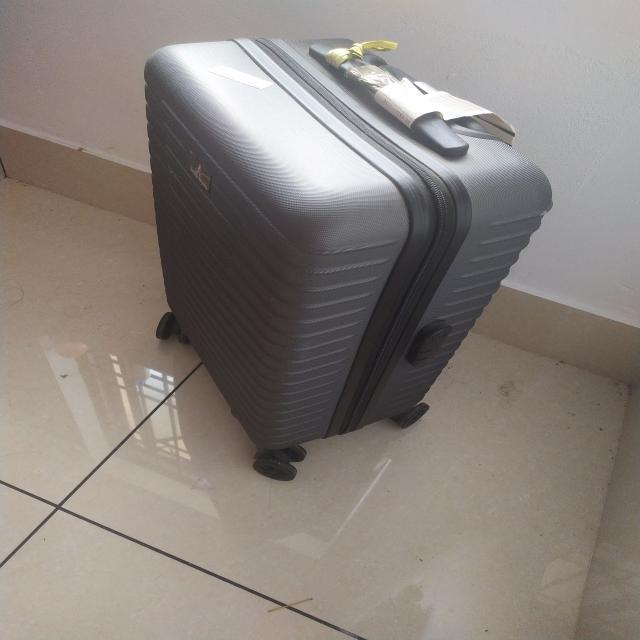Suitcase: (132, 29, 580, 502)
